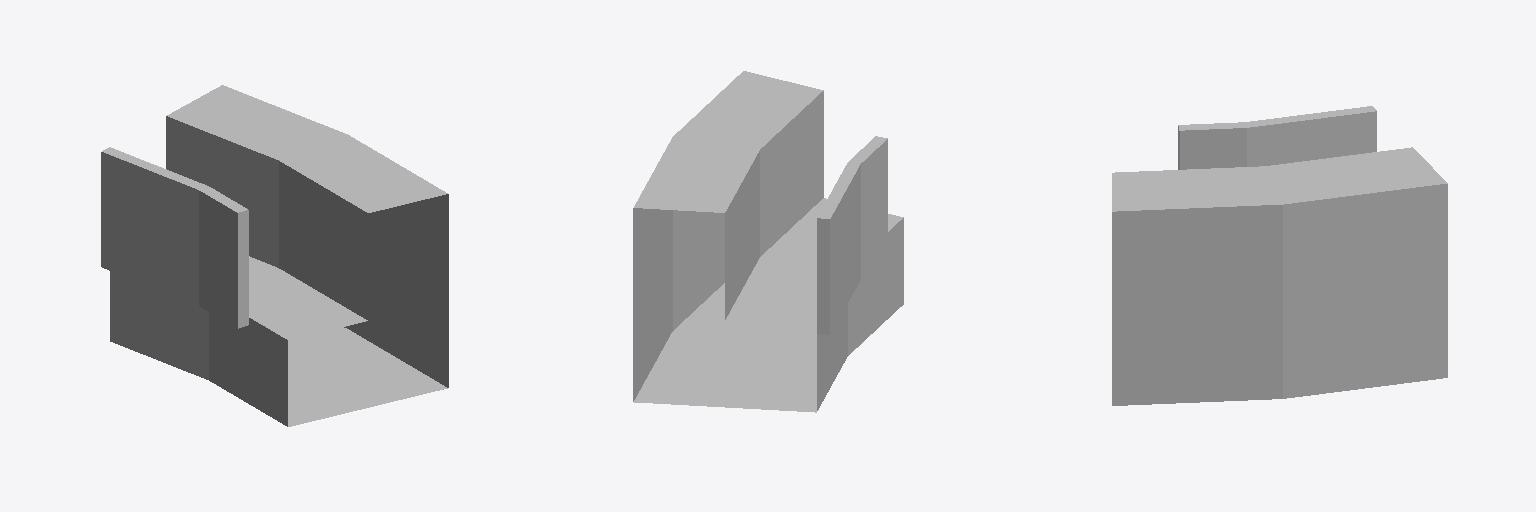
The model's file is top_03.obj.
The picture shows the model from 3 angles: view 1: azimuth 30°, elevation 25°; view 2: azimuth 150°, elevation 25°; view 3: azimuth 270°, elevation 25°; orthographic projection.
Visible parts, largest first — view 1: Cylinder.042; view 2: Cylinder.042; view 3: Cylinder.042.
Boxes of the visible parts, x1,y1,x2,y2 form: Cylinder.042: [101, 85, 448, 426]; Cylinder.042: [633, 71, 903, 412]; Cylinder.042: [1112, 106, 1447, 405].
Size of the model in its own units: 10.98 by 9.41 by 14.74.